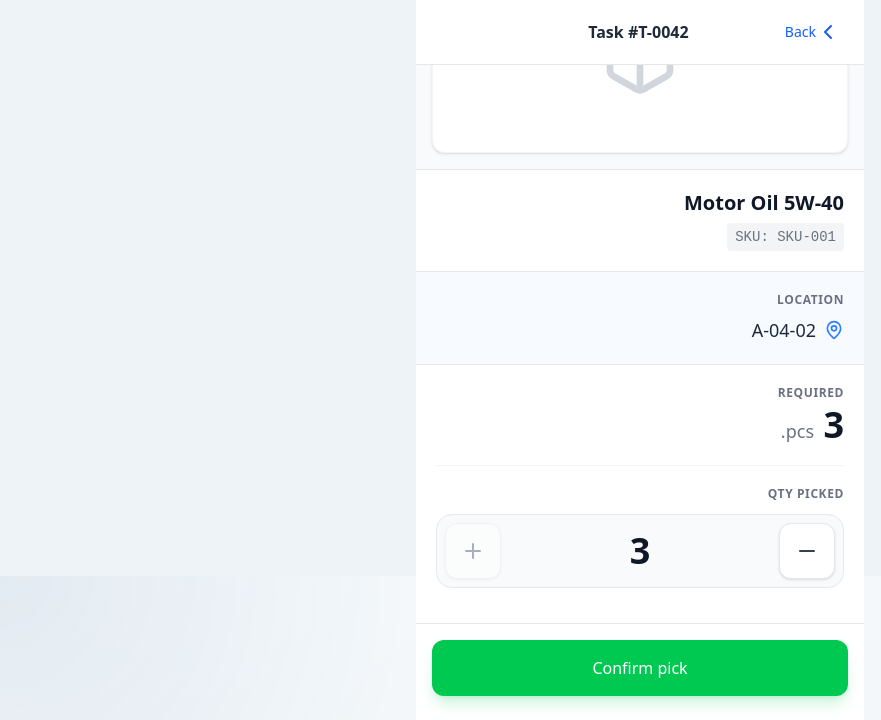
Test: PickStepPage › increase button is disabled when qtyPicked reaches qtyRequired
(page scrolled)
Check: the text "3" is shown, box [630,526,650,575]
Check: the button with test id "pick-step-qty-increase" is disabled, box [445,523,501,579]
Click the button with test id "pick-step-qty-decrease": coordinates (807, 551) [779,523,835,579]
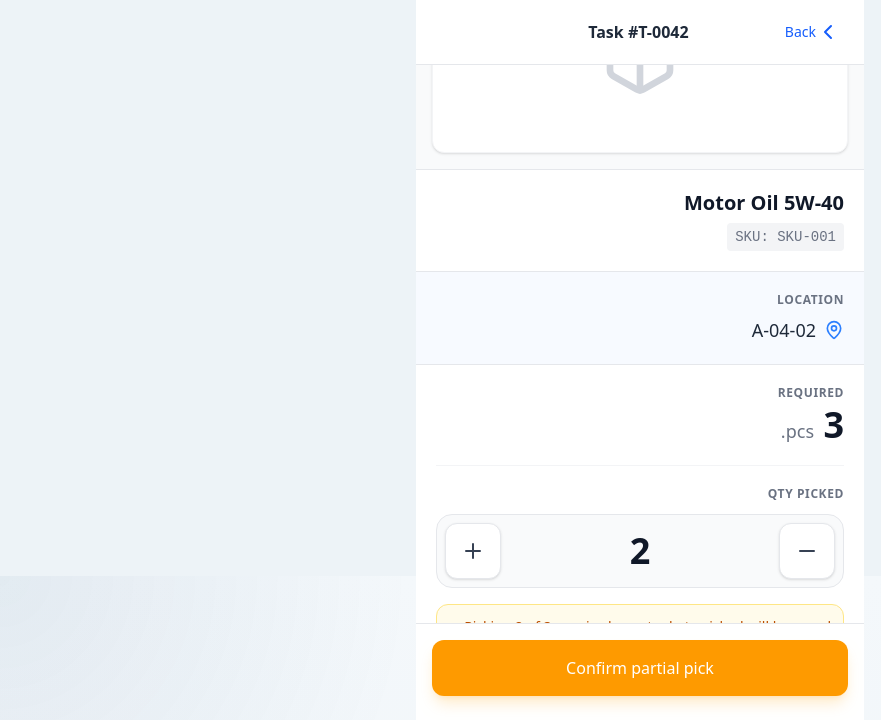
Check: the button with test id "pick-step-qty-increase" is enabled
Click the button with test id "pick-step-qty-increase": coordinates (473, 551) [445,523,501,579]
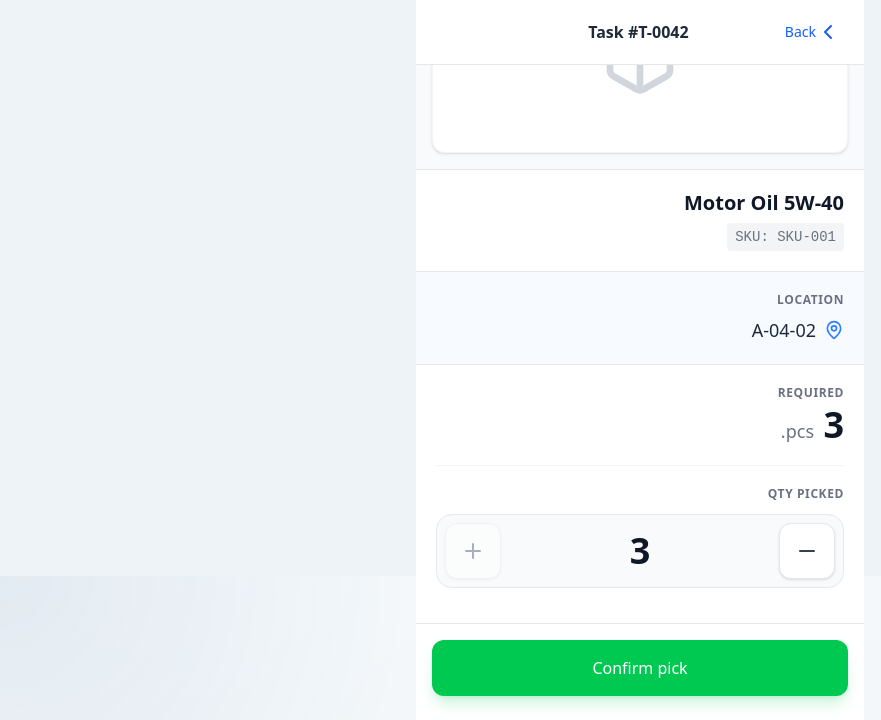
Check: the button with test id "pick-step-qty-increase" is disabled, box [445,523,501,579]
